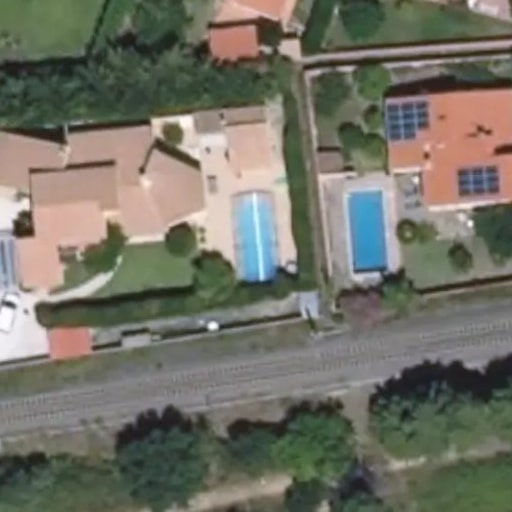pool: (233, 189, 282, 290), (345, 186, 393, 280)
